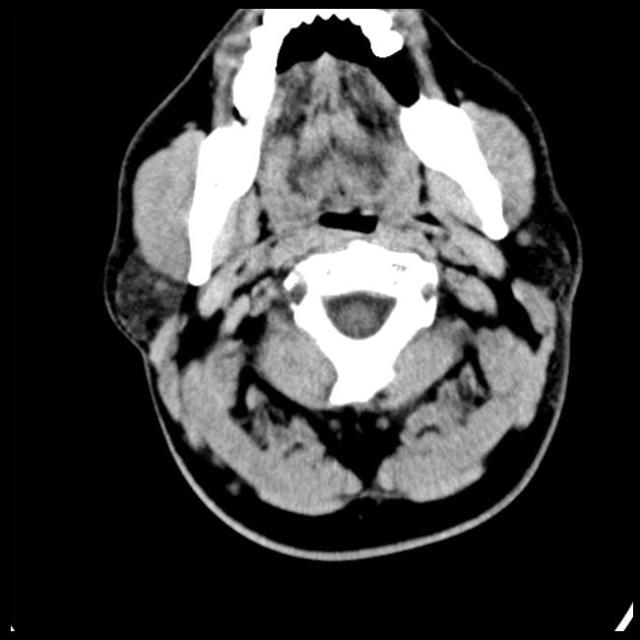lesion: (102, 7, 585, 548)
